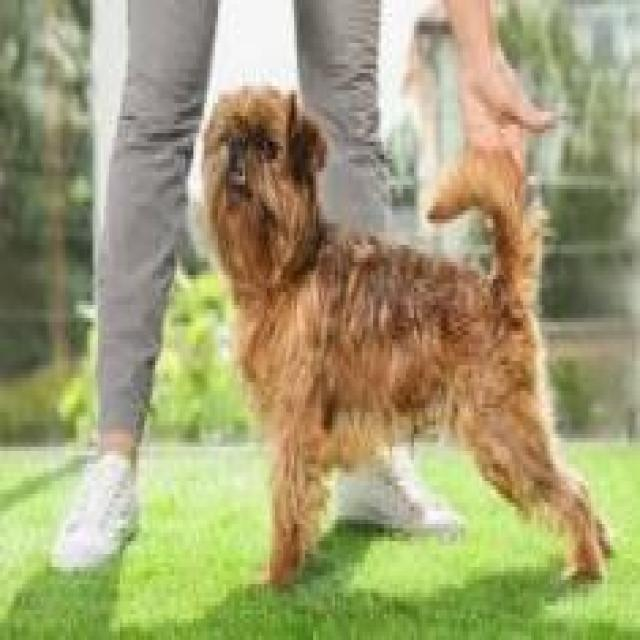Perro: (199, 73, 618, 593)
